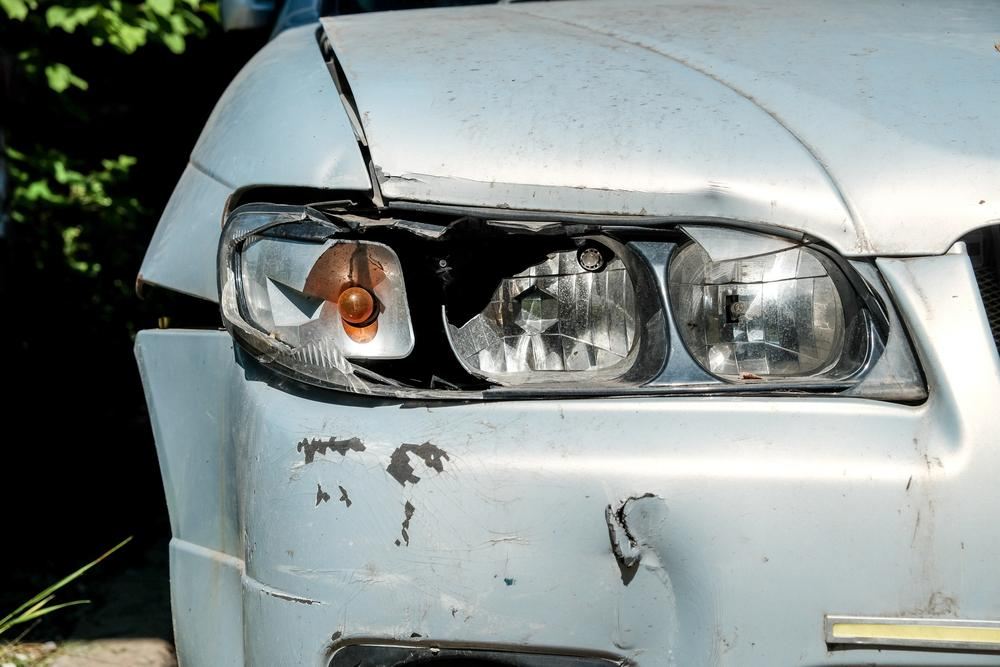dent: (591, 490, 714, 655)
lamp broken: (220, 194, 869, 392)
scratch: (265, 425, 509, 642)
